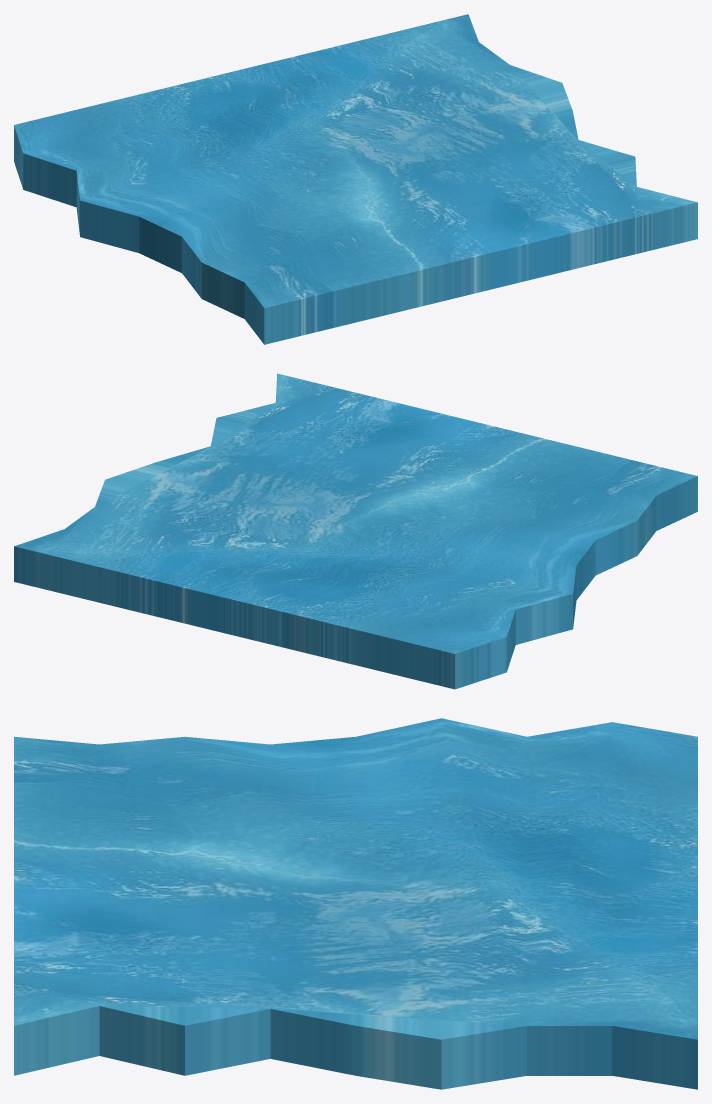
File: buz_platform.fbx
The picture shows the model from 3 angles, top to bottom: view 1: azimuth 30°, elevation 25°; view 2: azimuth 150°, elevation 25°; view 3: azimuth 270°, elevation 25°; orthographic projection. The views are drawn at different scales.
Parts seen in each view (by area): view 1: Plane; view 2: Plane; view 3: Plane.
Part boxes in pixels (bbox=[...]): Plane: bbox=[14, 14, 697, 344]; Plane: bbox=[14, 373, 697, 689]; Plane: bbox=[14, 718, 697, 1089].
Bounding box in the file's own units: 222 × 16.14 × 200.
Materials: 1 (1 with a texture image).
